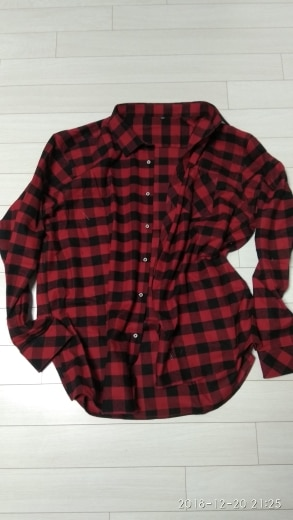shirts: (8, 103, 293, 416)
